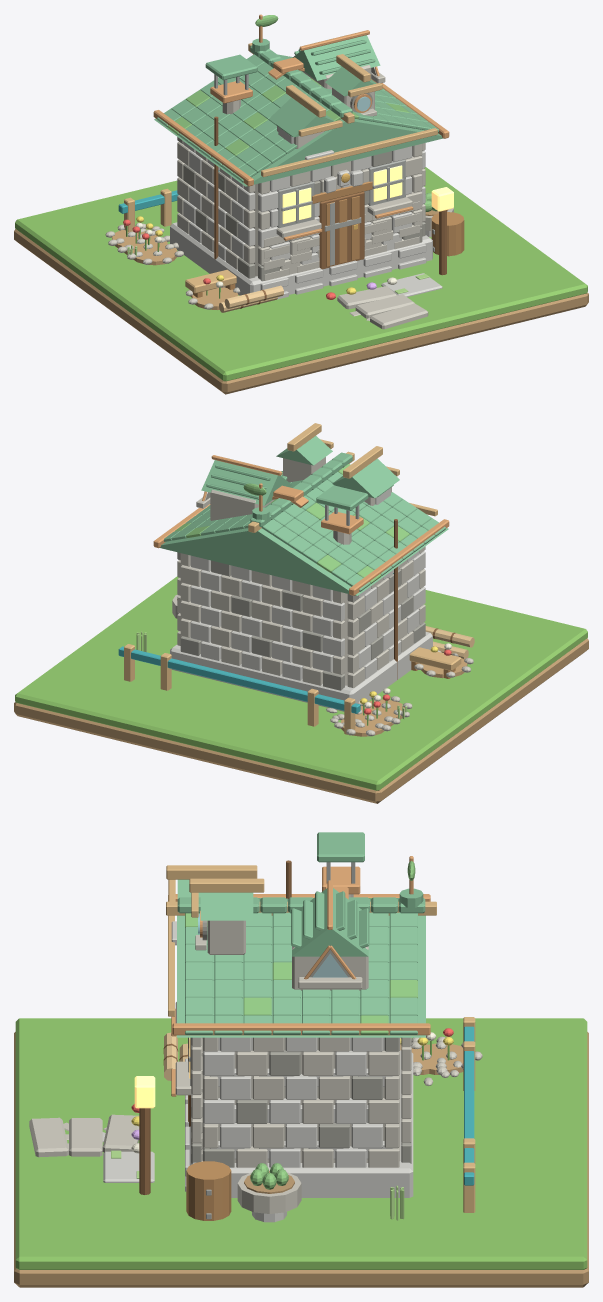
File: stone_house_l02_active.glb
3 renders of one model, top to bottom at view 1: azimuth 30°, elevation 25°; view 2: azimuth 150°, elevation 25°; view 3: azimuth 270°, elevation 25°, orthographic. The views are drawn at different scales.
Parts seen in each view (by area): view 1: stone_house_component_pilot_grass_tile, stone_house_component_pilot_earth_tile, pilot_stone_house_l02_roof_gable_roof, pilot_stone_house_l02_spec_stone_block_medium_medium_foundat, pilot_stone_house_l02_stone_door, pilot_stone_house_l02_side_dormer_green_gable, pilot_stone_house_l02_roof_roof_front_trim, pilot_stone_house_l02_roof_dormer_gable_roof, pilot_stone_house_l02_yard_barrel_barrel_body, pilot_stone_house_l02_roof_eave_-1, stone_house_component_pilot_path_stone_03, pilot_stone_house_l02_decor_chimney_crown_cap (+18 smaller); view 2: stone_house_component_pilot_grass_tile, stone_house_component_pilot_earth_tile, pilot_stone_house_l02_roof_gable_roof, pilot_stone_house_l02_spec_stone_block_medium_medium_foundat, pilot_stone_house_l02_yard_fence_rail, pilot_stone_house_l02_side_dormer_green_gable, pilot_stone_house_l02_roof_dormer_gable_roof, pilot_stone_house_l02_side_dormer_stone_cheek, pilot_stone_house_l02_roof_eave_-1, pilot_stone_house_l02_decor_chimney_crown_cap, pilot_stone_house_l02_round_attic_window_little_green_roof_g, pilot_stone_house_l02_yard_bench_seat (+4 smaller); view 3: stone_house_component_pilot_grass_tile, stone_house_component_pilot_earth_tile, pilot_stone_house_l02_spec_stone_block_medium_medium_foundat, pilot_stone_house_l02_roof_gable_roof, pilot_stone_house_l02_yard_barrel_barrel_body, pilot_stone_house_l02_roof_eave_+1, pilot_stone_house_l02_side_dormer_green_gable, pilot_stone_house_l02_round_attic_window_little_green_roof_g, pilot_stone_house_l02_decor_seed_planter_bowl, pilot_stone_house_l02_decor_chimney_crown_cap, pilot_stone_house_l02_yard_fence_rail, pilot_stone_house_l02_stone_body_stone_wall_core (+41 smaller).
Part boxes in pixels (x1,y1,x2,y2): stone_house_component_pilot_grass_tile: (15, 167, 587, 381); stone_house_component_pilot_earth_tile: (14, 229, 588, 394); pilot_stone_house_l02_roof_gable_roof: (154, 54, 443, 186); pilot_stone_house_l02_spec_stone_block_medium_medium_foundat: (170, 222, 432, 295); pilot_stone_house_l02_stone_door: (318, 191, 364, 269); pilot_stone_house_l02_side_dormer_green_gable: (292, 35, 380, 80); pilot_stone_house_l02_roof_roof_front_trim: (261, 128, 437, 177); pilot_stone_house_l02_roof_dormer_gable_roof: (269, 97, 334, 137); pilot_stone_house_l02_yard_barrel_barrel_body: (431, 212, 464, 256); pilot_stone_house_l02_roof_eave_-1: (153, 110, 253, 186); stone_house_component_pilot_path_stone_03: (370, 303, 428, 329); pilot_stone_house_l02_decor_chimney_crown_cap: (205, 54, 257, 80); stone_house_component_pilot_grass_tile: (15, 576, 587, 790); stone_house_component_pilot_earth_tile: (14, 638, 588, 803); pilot_stone_house_l02_roof_gable_roof: (159, 464, 448, 595); pilot_stone_house_l02_spec_stone_block_medium_medium_foundat: (170, 632, 432, 711); pilot_stone_house_l02_yard_fence_rail: (118, 646, 360, 713); pilot_stone_house_l02_side_dormer_green_gable: (201, 460, 292, 505); pilot_stone_house_l02_roof_dormer_gable_roof: (332, 458, 399, 498); pilot_stone_house_l02_side_dormer_stone_cheek: (210, 489, 274, 520); pilot_stone_house_l02_roof_eave_-1: (349, 519, 449, 595); pilot_stone_house_l02_decor_chimney_crown_cap: (316, 485, 368, 510); pilot_stone_house_l02_round_attic_window_little_green_roof_g: (276, 436, 332, 465); pilot_stone_house_l02_yard_bench_seat: (409, 647, 461, 670); stone_house_component_pilot_grass_tile: (15, 1018, 587, 1269); stone_house_component_pilot_earth_tile: (14, 1032, 588, 1287); pilot_stone_house_l02_spec_stone_block_medium_medium_foundat: (189, 1050, 413, 1197); pilot_stone_house_l02_roof_gable_roof: (177, 915, 425, 1037); pilot_stone_house_l02_yard_barrel_barrel_body: (186, 1161, 231, 1220); pilot_stone_house_l02_roof_eave_+1: (172, 1023, 430, 1035); pilot_stone_house_l02_side_dormer_green_gable: (292, 888, 368, 956); pilot_stone_house_l02_round_attic_window_little_green_roof_g: (200, 892, 253, 920); pilot_stone_house_l02_decor_seed_planter_bowl: (237, 1169, 301, 1213); pilot_stone_house_l02_decor_chimney_crown_cap: (317, 832, 364, 862); pilot_stone_house_l02_yard_fence_rail: (464, 1026, 474, 1185); pilot_stone_house_l02_stone_body_stone_wall_core: (202, 1037, 400, 1162).
Bounding box in the file's own units: 3.6 × 2.16 × 3.6.
